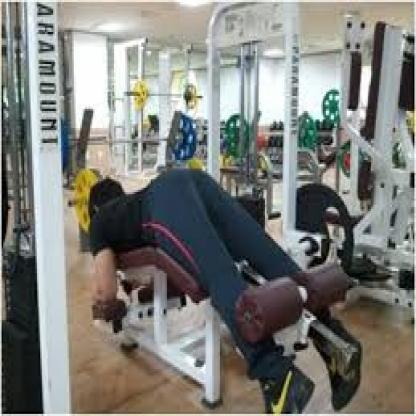reg curl machine: (76, 162, 365, 416)
